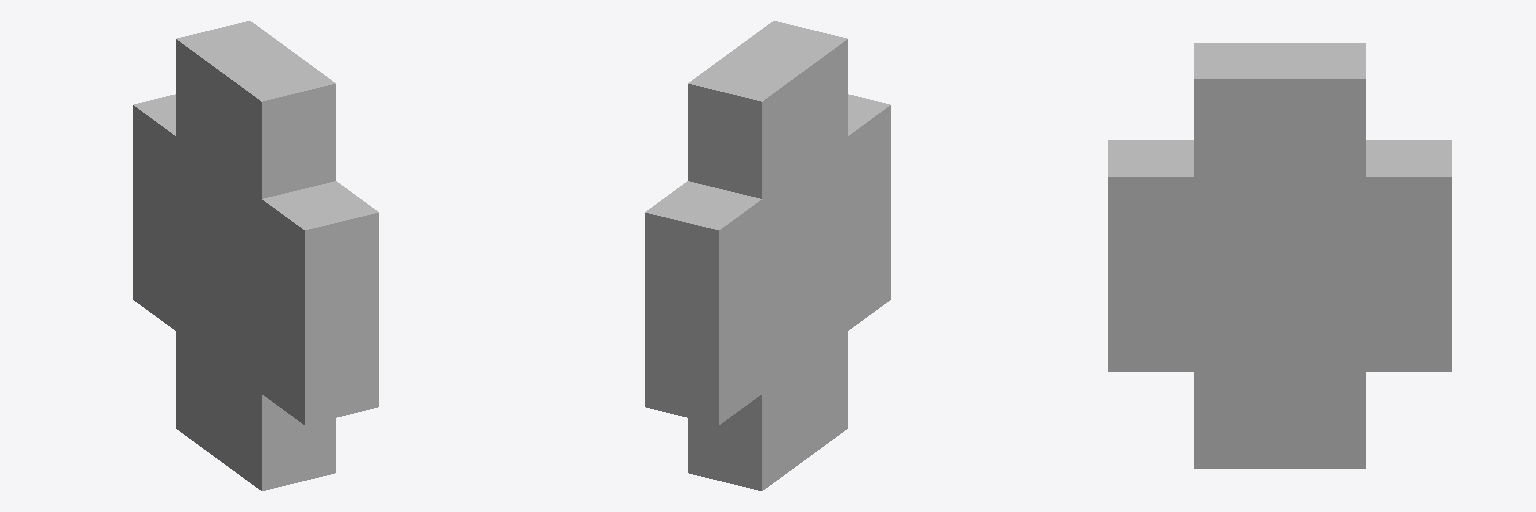
The model's file is testmtmodel.obj.
3 renders of one model, left to right at view 1: azimuth 30°, elevation 25°; view 2: azimuth 150°, elevation 25°; view 3: azimuth 270°, elevation 25°, orthographic.
Visible parts, largest first — view 1: Cube; view 2: Cube; view 3: Cube.
Boxes of the visible parts, x1=… form: Cube: x1=133, y1=21, x2=378, y2=490; Cube: x1=645, y1=21, x2=890, y2=490; Cube: x1=1108, y1=43, x2=1451, y2=468.
Bounding box in the file's own units: 0.8 × 4 × 3.2.